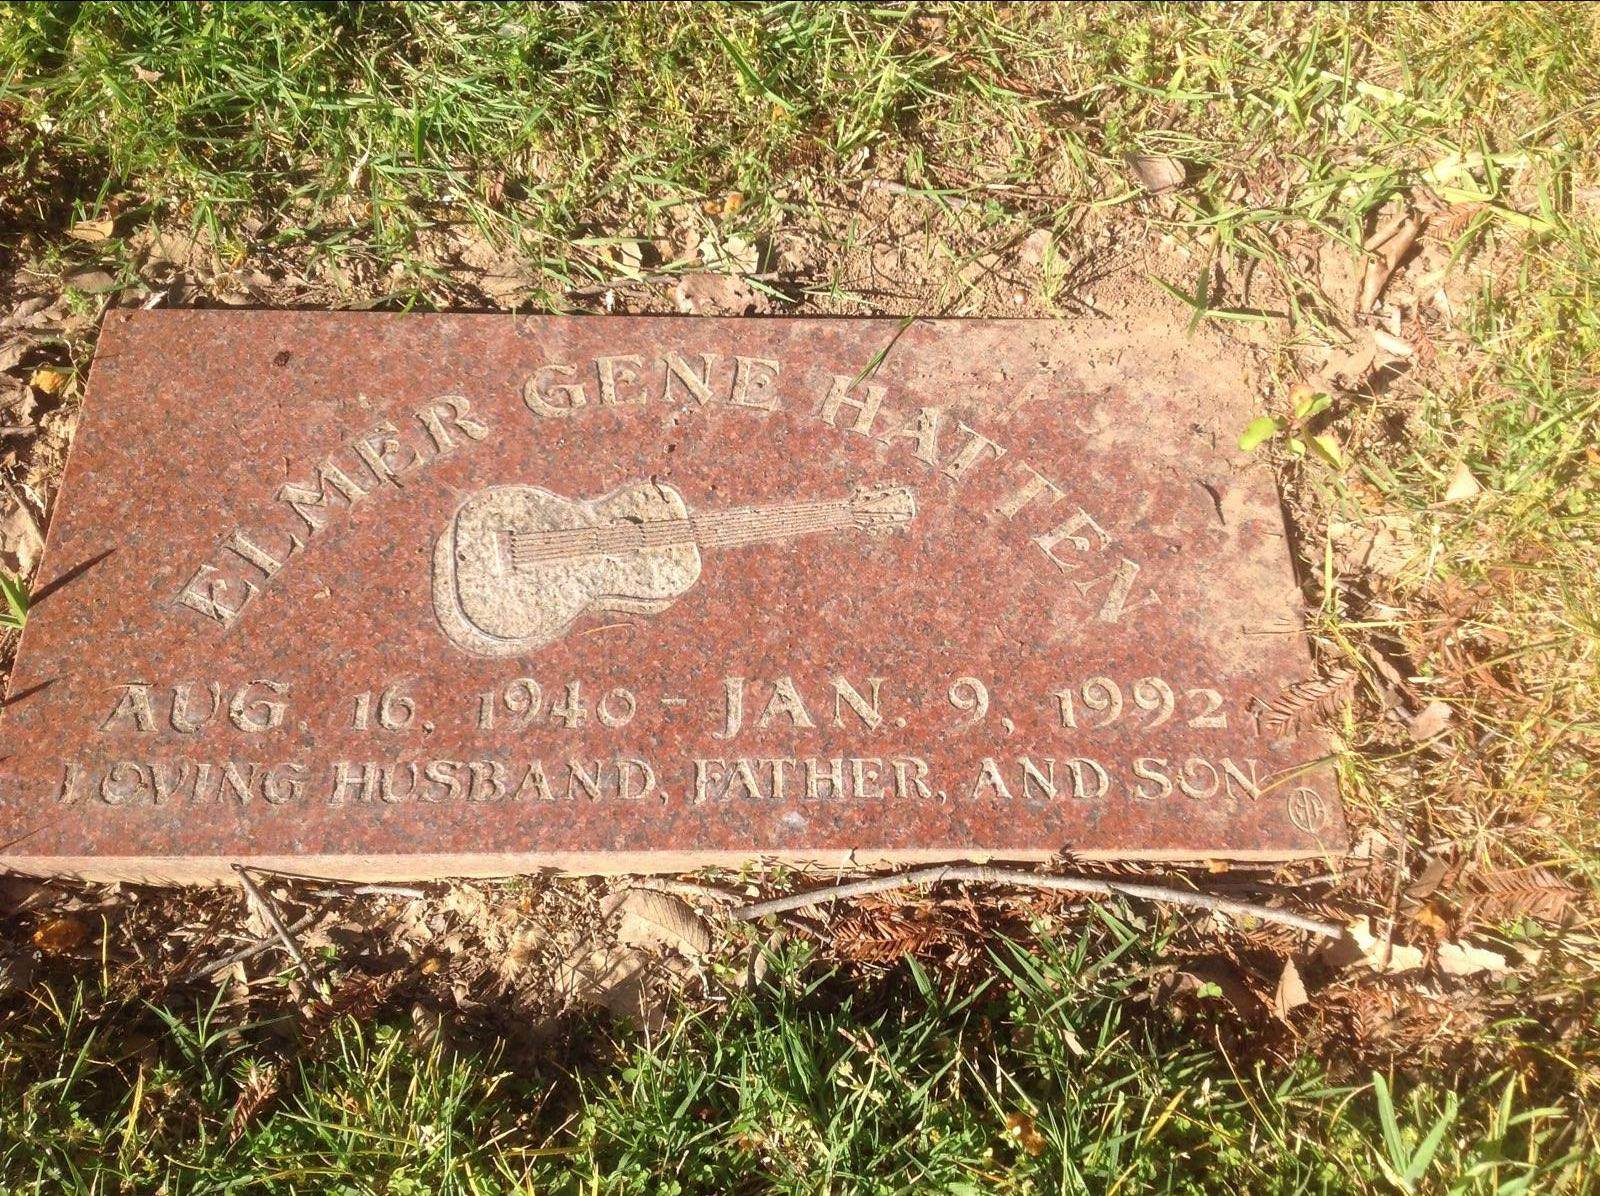flat: (0, 307, 1353, 863)
